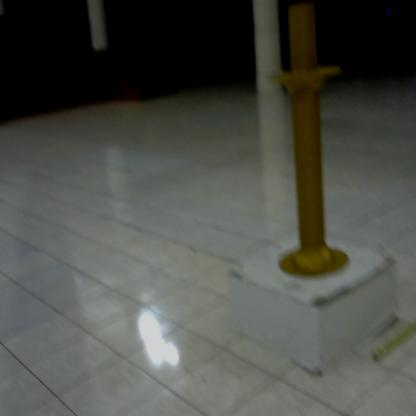pole: (259, 1, 371, 287)
